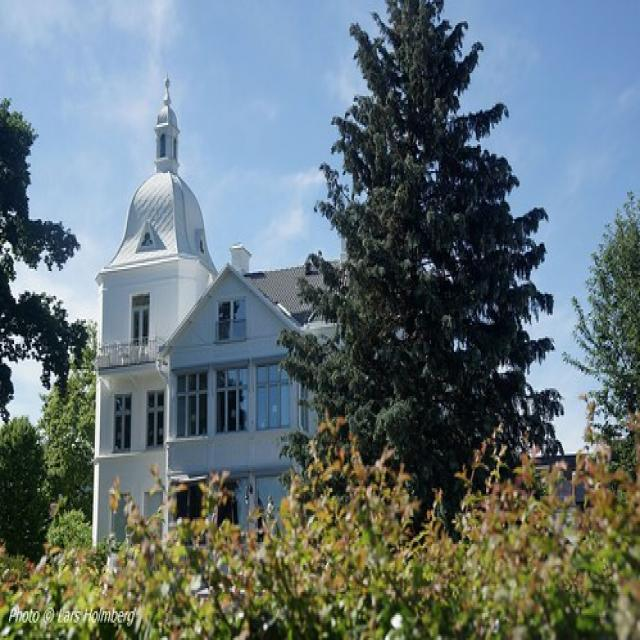Normal_building: (91, 164, 376, 566)
